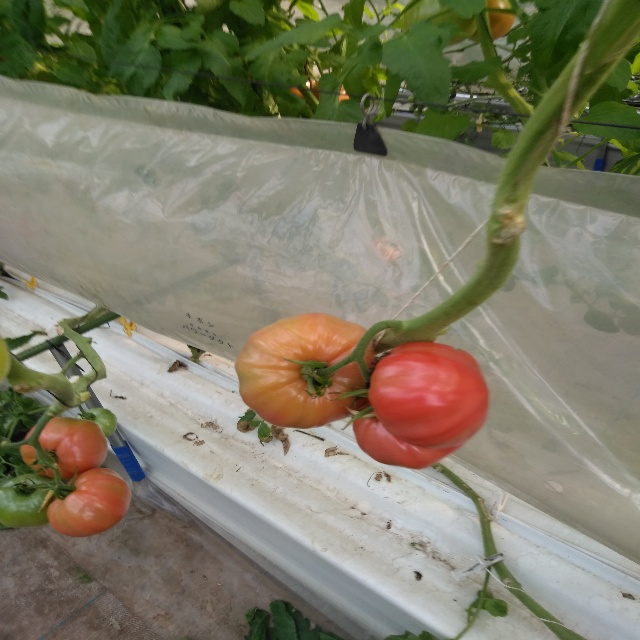b_fully_ripened: (351, 340, 490, 469)
b_green: (0, 474, 67, 528), (76, 408, 118, 437)
b_half_ripened: (233, 312, 375, 429), (47, 467, 132, 537), (20, 417, 108, 479)
